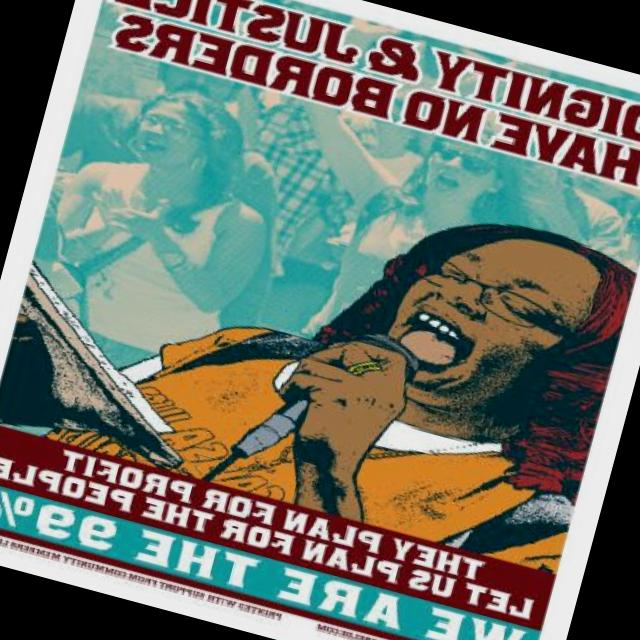Person: (7, 0, 640, 492), (102, 135, 640, 577)
